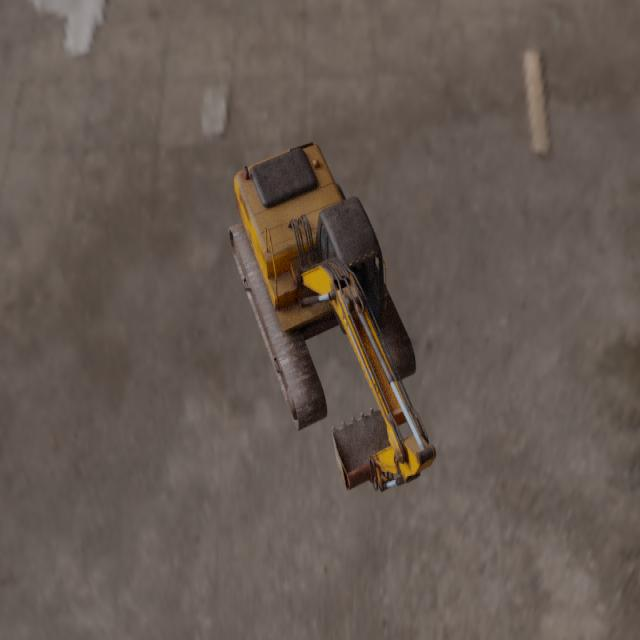excavator: (228, 141, 436, 492)
